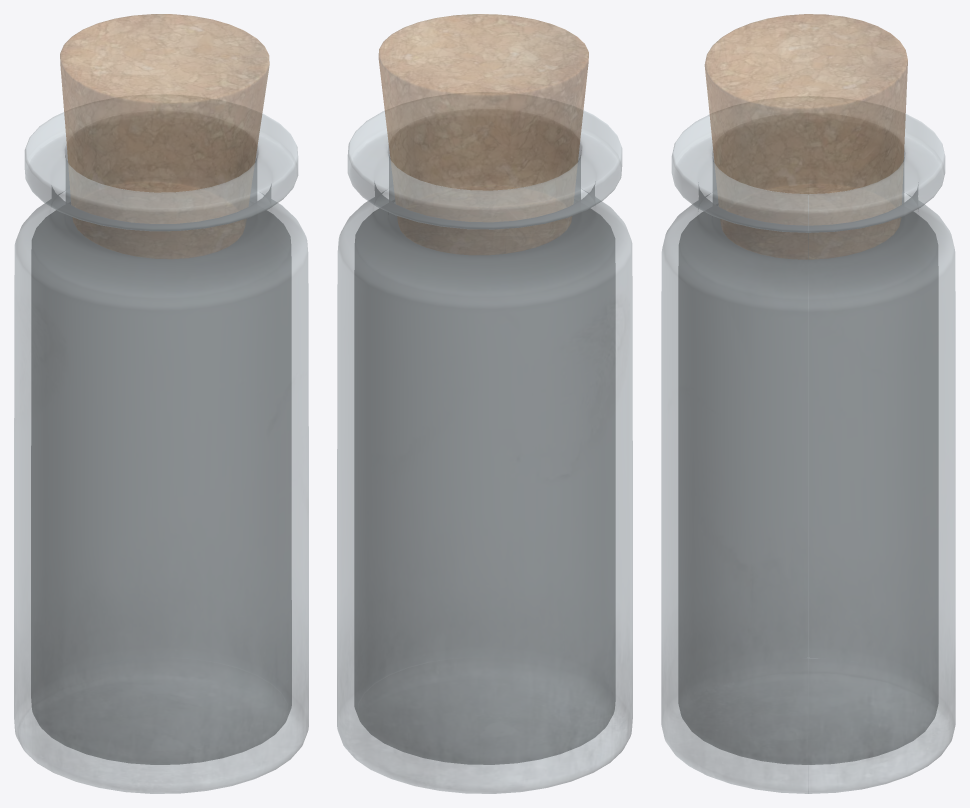
Rendered from container_vial_glass_a01.glb.
3 views of the same model, side by side, from view 1: azimuth 30°, elevation 25°; view 2: azimuth 150°, elevation 25°; view 3: azimuth 270°, elevation 25° (orthographic).
Parts seen in each view (by area): view 1: body_01_mesh_00, cork_01_mesh_00; view 2: body_01_mesh_00, cork_01_mesh_00; view 3: body_01_mesh_00, cork_01_mesh_00.
Part boxes in pixels (left/top/right/bottom): body_01_mesh_00: left=14, top=94, right=308, bottom=793; cork_01_mesh_00: left=60, top=14, right=269, bottom=258; body_01_mesh_00: left=337, top=92, right=632, bottom=793; cork_01_mesh_00: left=378, top=14, right=588, bottom=254; body_01_mesh_00: left=661, top=96, right=955, bottom=793; cork_01_mesh_00: left=704, top=14, right=907, bottom=259.
Bounding box in the file's own units: 0.0326 × 0.0829 × 0.0326.
Materials: 2 (2 with a texture image).
